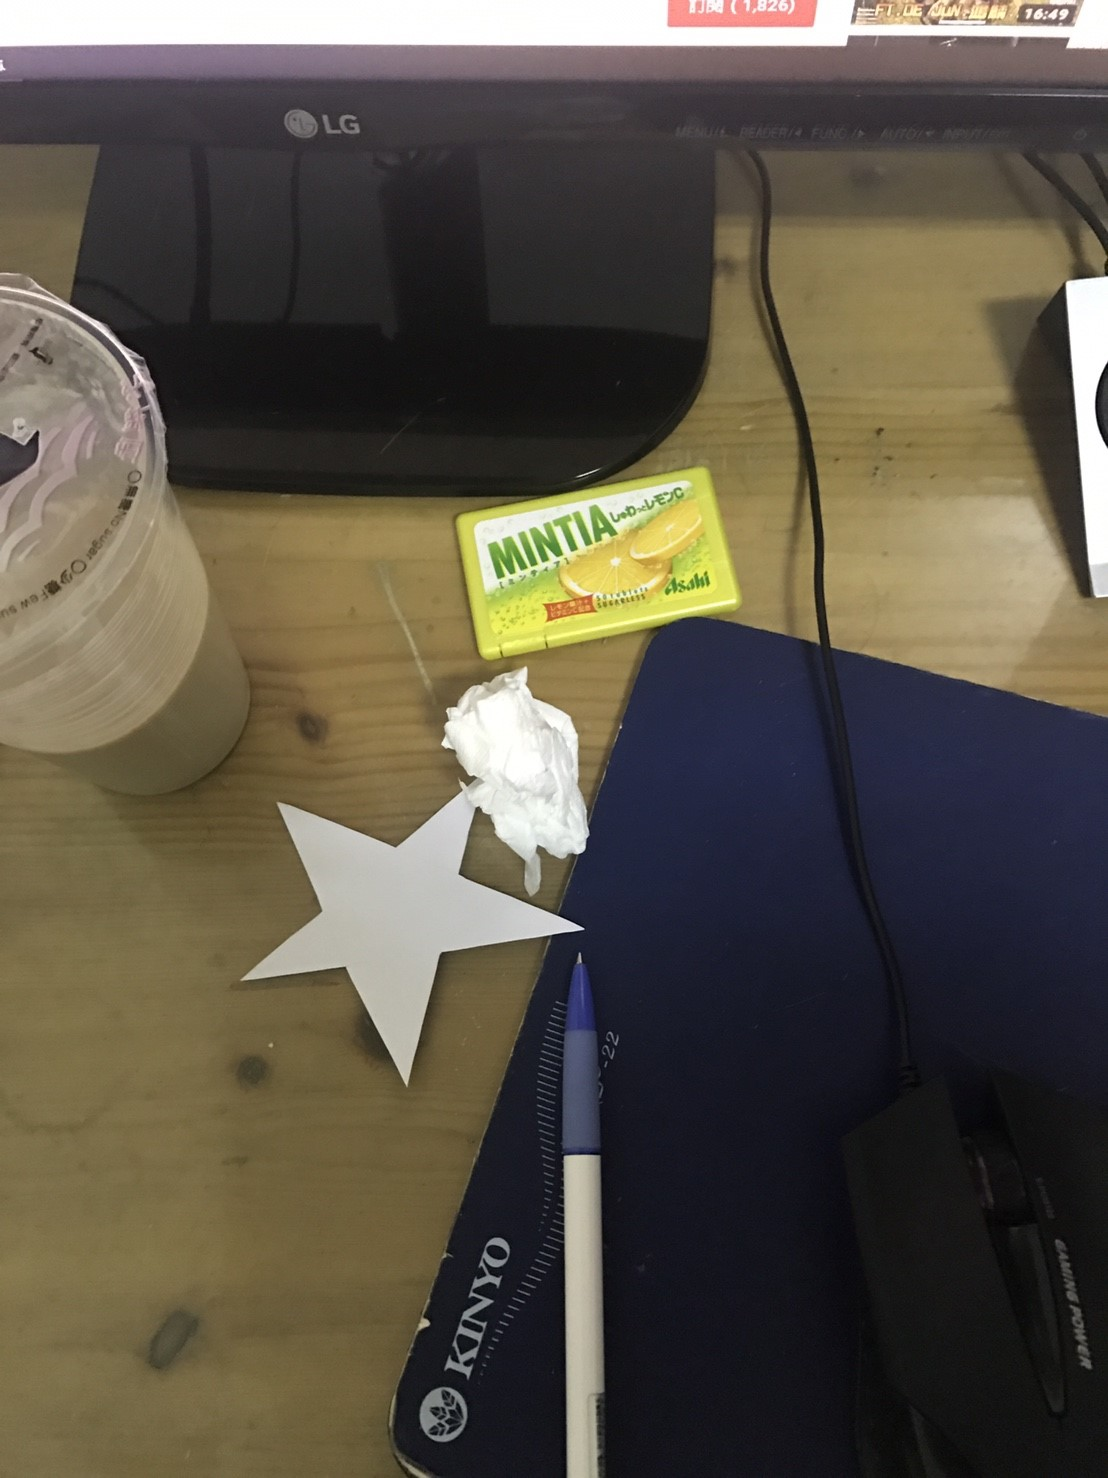star: (212, 737, 603, 1106)
